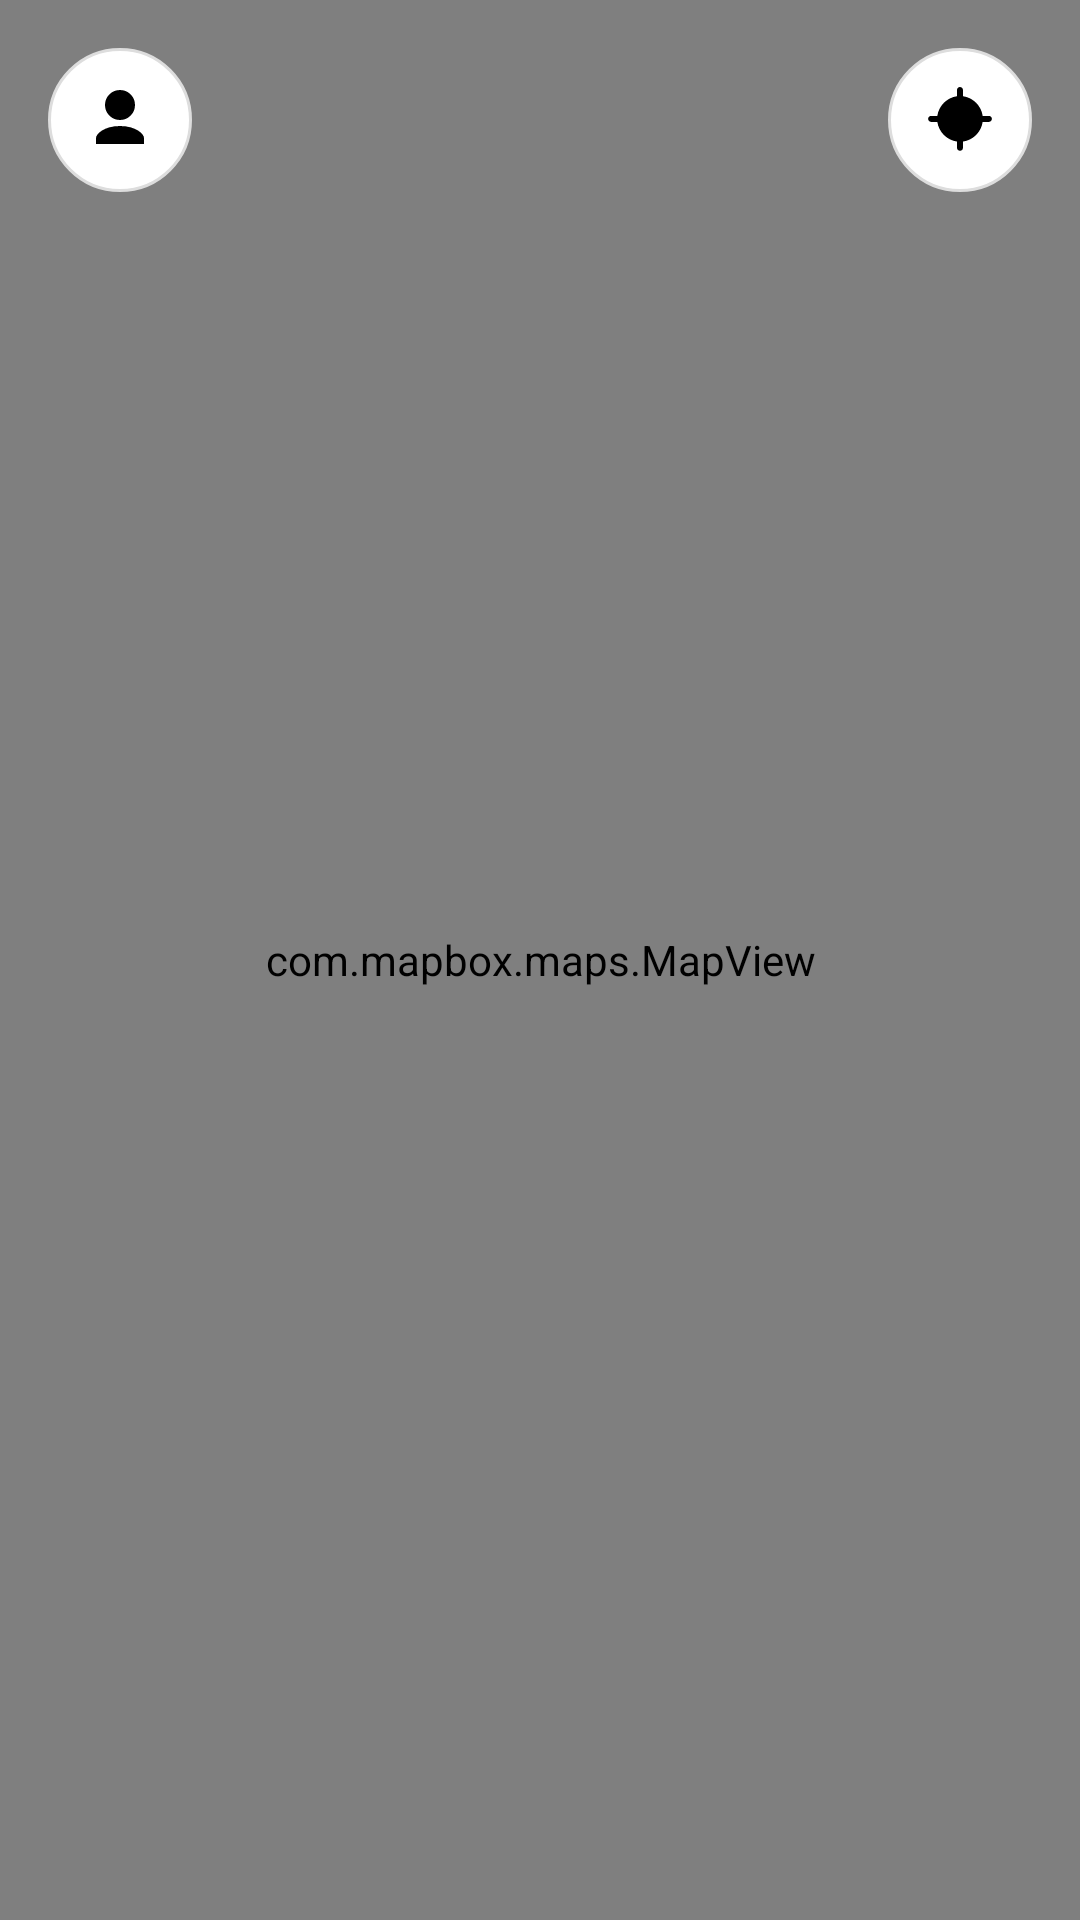

Named icons in this screenshot (1080×1920) and their bounding boxes, (x1, y1, x2, y2):
Friends Button: (48, 48, 192, 192)
Location Button: (888, 48, 1032, 192)
